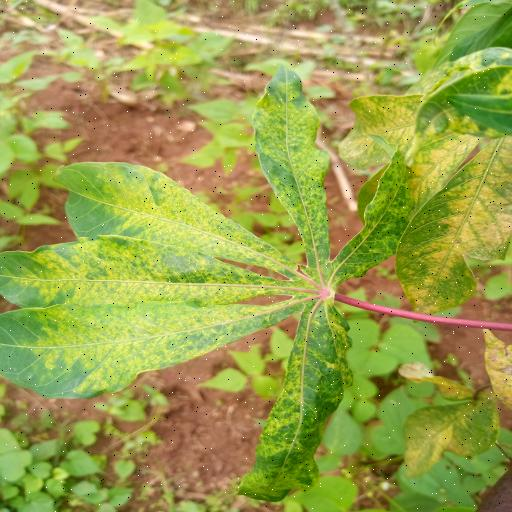Cassava_Mosaic: (4, 53, 492, 502)
